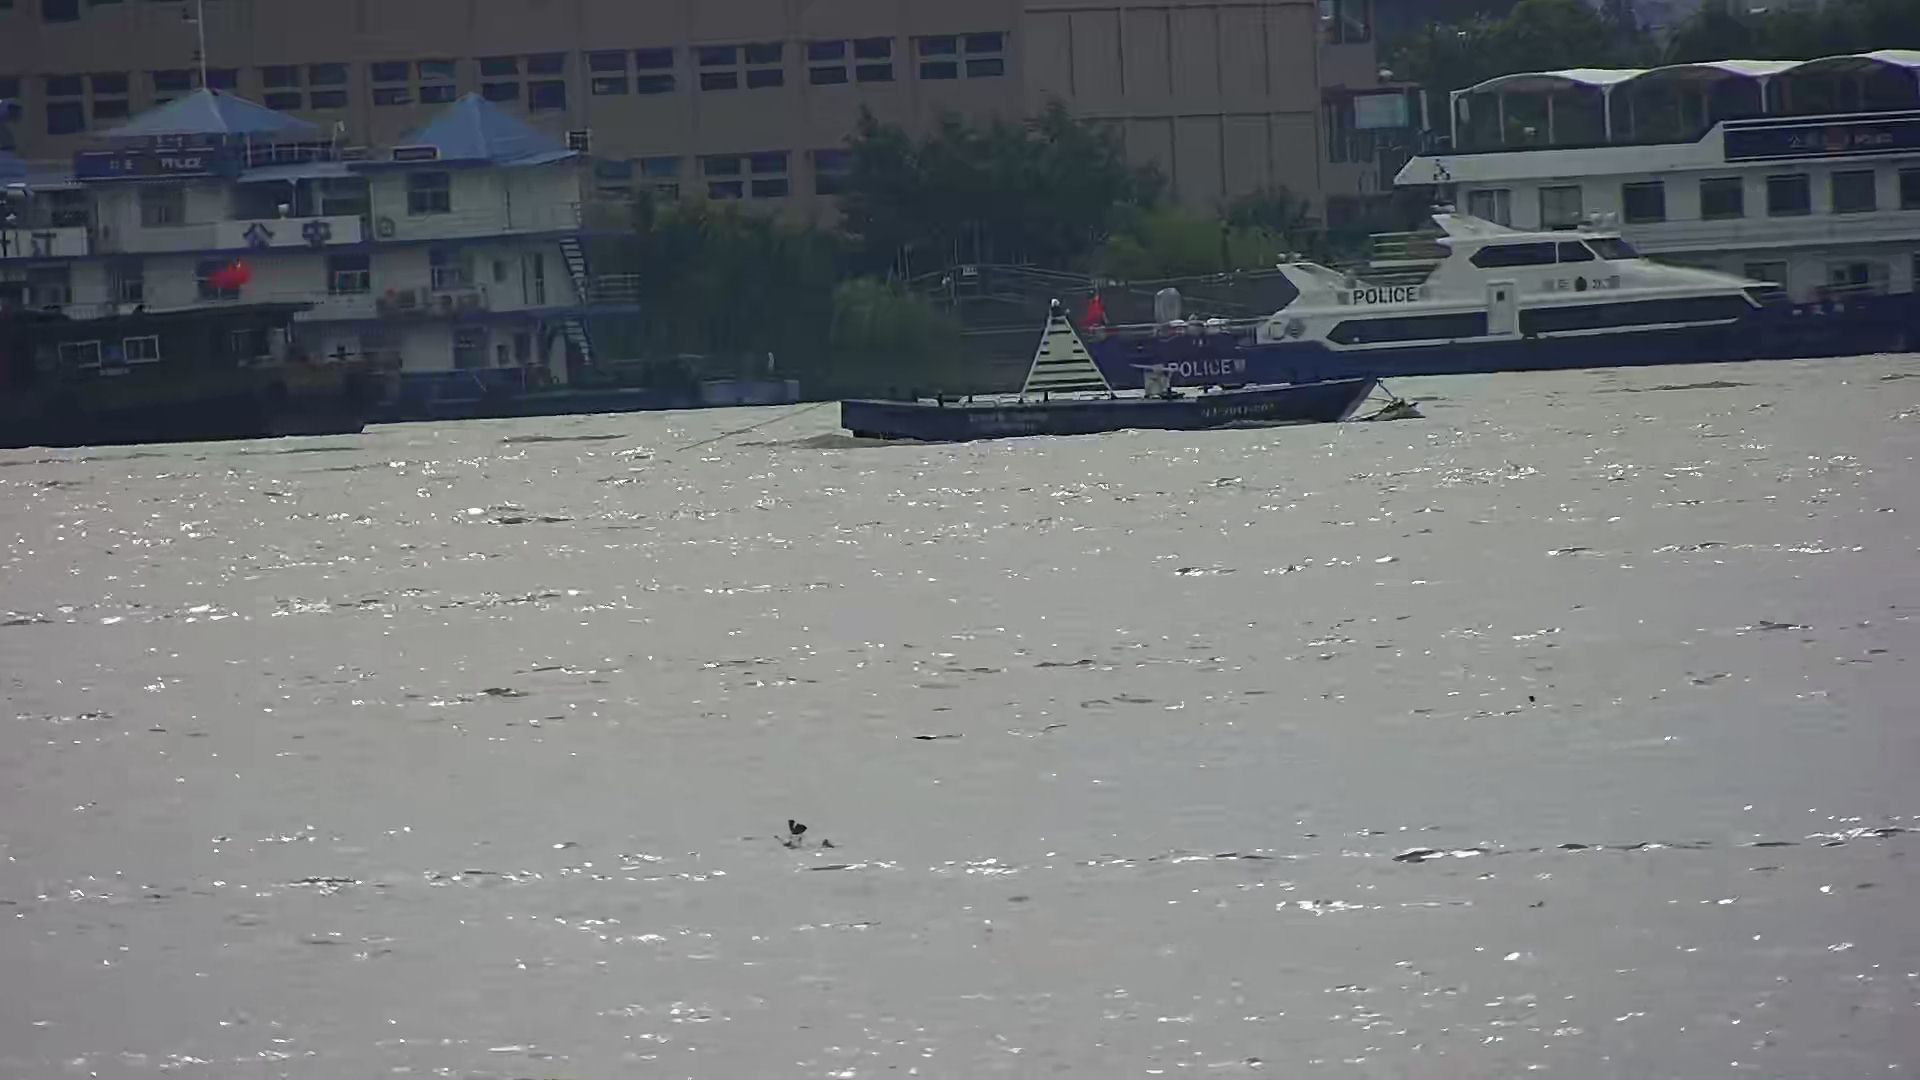boat: (839, 298, 1379, 440)
ship: (1088, 206, 1920, 386), (1, 258, 398, 447)
